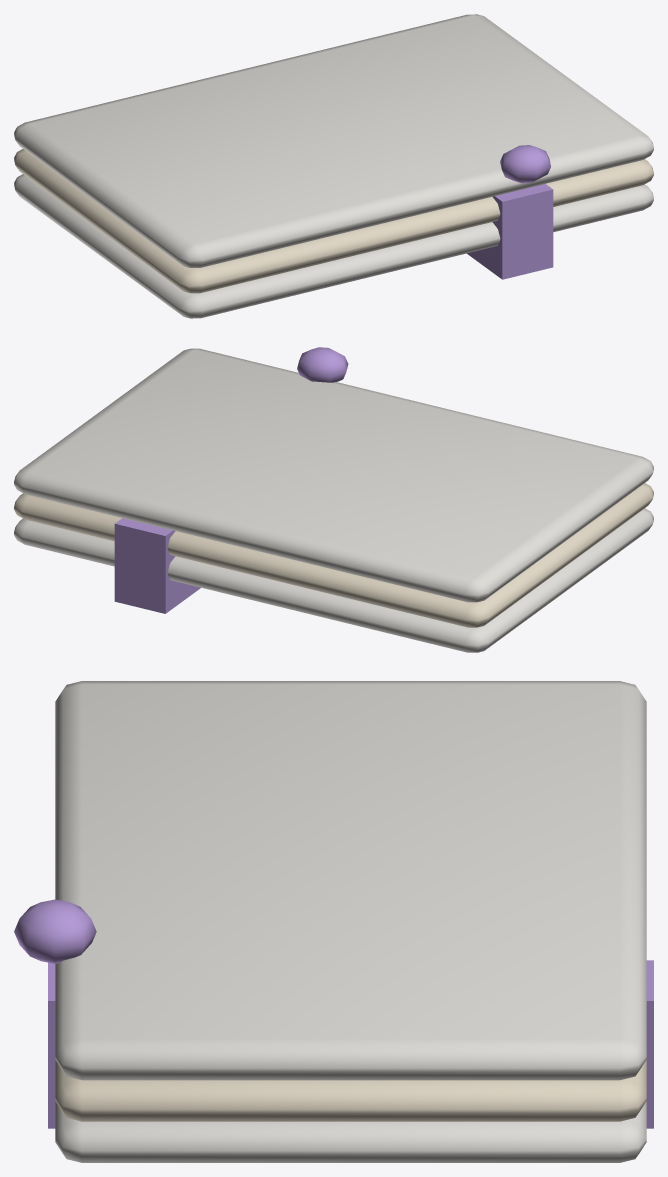
File: linen_folded.glb
3 renders of one model, top to bottom at view 1: azimuth 30°, elevation 25°; view 2: azimuth 150°, elevation 25°; view 3: azimuth 270°, elevation 25°, orthographic. The views are drawn at different scales.
Visible parts, largest first — view 1: linen_folded; view 2: linen_folded; view 3: linen_folded.
Part boxes in pixels (left/top/right/bottom): linen_folded: left=14, top=14, right=653, bottom=318; linen_folded: left=14, top=347, right=653, bottom=652; linen_folded: left=14, top=681, right=653, bottom=1162.
Size of what is drawn, in the model's own units: 0.28 by 0.07 by 0.2.
